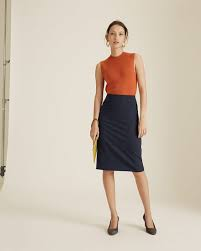F_tailored skirt: (91, 93, 147, 175)
